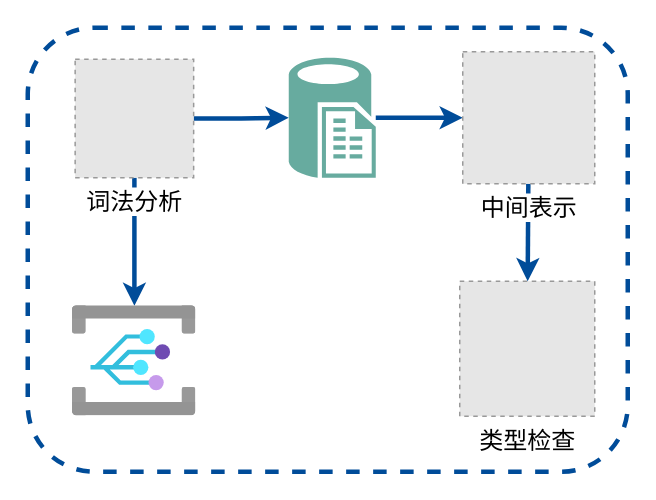
The diagram is 656 pixels wide and 500 high, and some of its shapes have lost their labels. Grey dashed boxes stand in for pictures. Here are the shapes that lost their labels. From the top down, the centre of each, then its label:
At (x=331, y=117): "语法分析".
At (x=133, y=360): "抽象原语".
